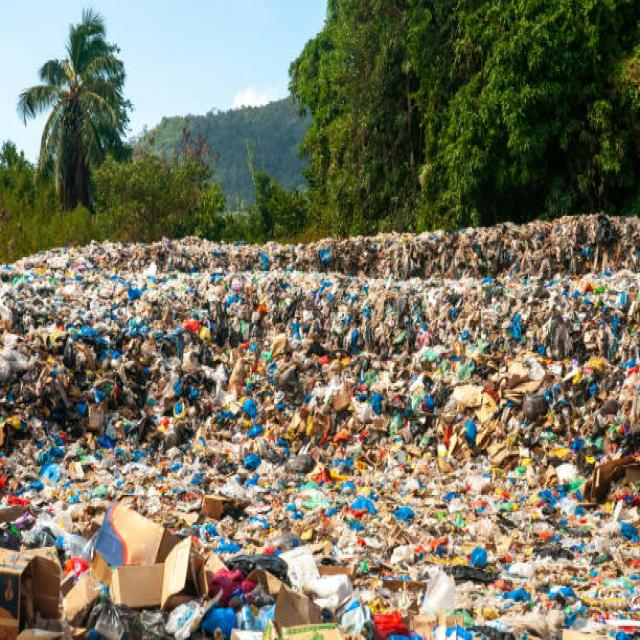cardboard: (96, 499, 214, 608), (1, 548, 70, 640), (275, 624, 349, 640)
plastic: (12, 260, 638, 506), (252, 276, 640, 542)
